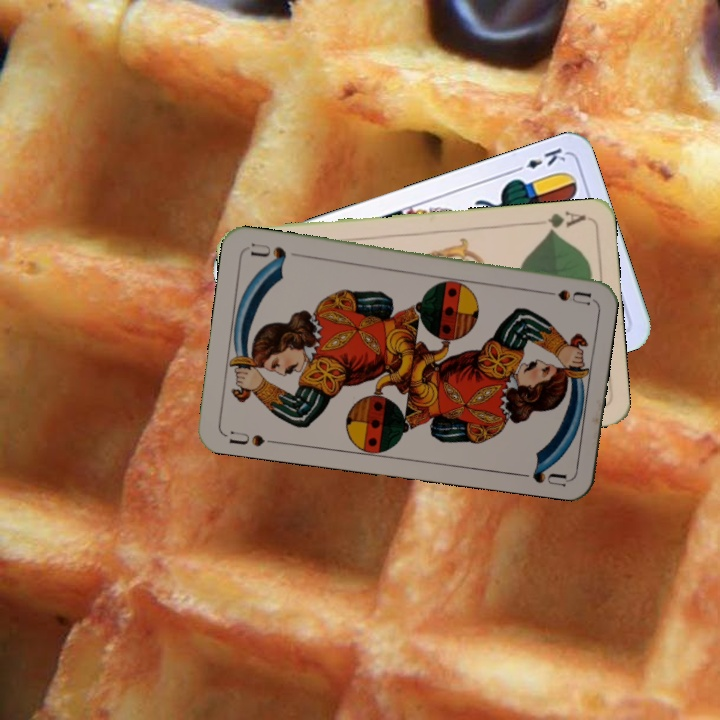EK: (509, 143, 569, 175)
GA: (544, 207, 589, 236)
SU: (533, 285, 593, 306), (221, 427, 267, 449)
